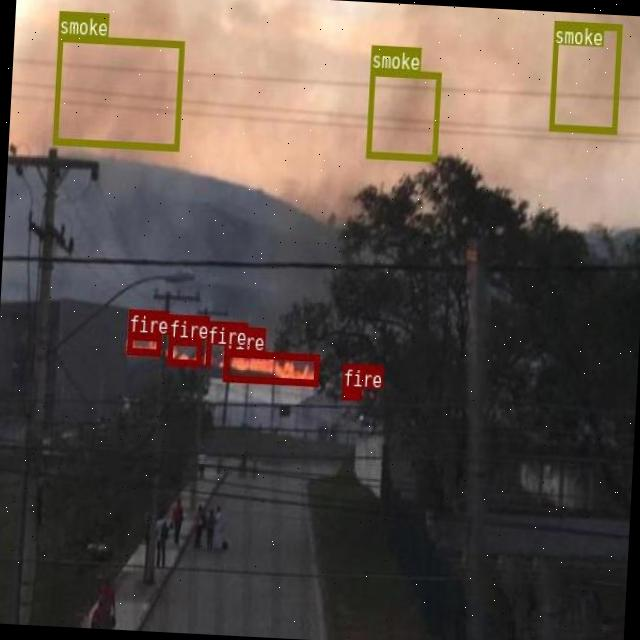fire: (222, 349, 319, 384), (167, 337, 200, 366), (127, 332, 161, 356), (342, 386, 361, 400), (206, 343, 210, 366)
smoke: (52, 35, 184, 150), (548, 19, 621, 133), (366, 67, 440, 161)
